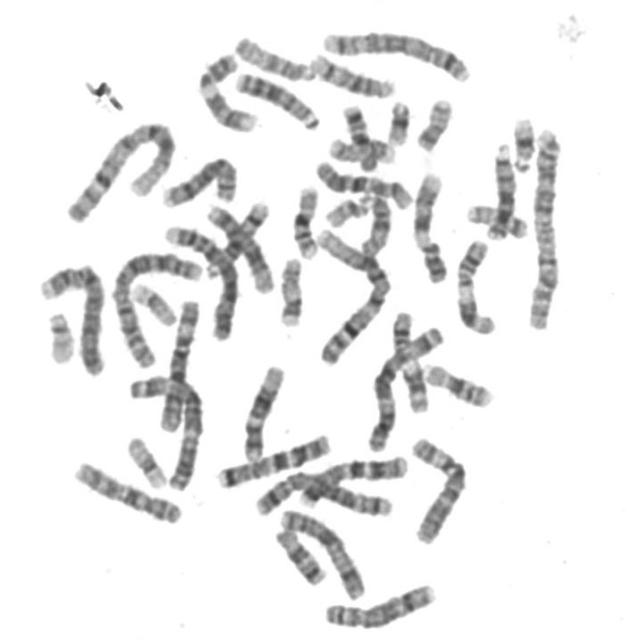A1: (60, 114, 180, 226), (307, 221, 394, 367)
A2: (106, 241, 206, 370), (521, 120, 566, 332)
A3: (361, 318, 447, 454), (122, 366, 208, 492)
B4: (157, 216, 243, 342), (34, 255, 109, 378)
B5: (317, 23, 475, 84), (248, 462, 398, 520)
C10: (68, 454, 186, 527), (310, 153, 417, 211)
C11: (385, 305, 433, 415), (450, 232, 500, 336)
C12: (200, 195, 276, 295), (237, 357, 287, 464)
C6: (405, 430, 471, 547), (154, 292, 203, 435)
C7: (211, 426, 334, 490), (295, 448, 410, 508)
C8: (317, 576, 439, 631), (158, 149, 242, 210)
C9: (193, 45, 261, 135), (408, 165, 452, 284)
D13: (230, 64, 324, 132), (481, 137, 517, 241)
D14: (200, 195, 276, 295), (305, 45, 398, 100)
D15: (229, 28, 318, 83), (354, 186, 394, 259)
E16: (418, 356, 497, 410), (286, 178, 324, 260)
E17: (322, 130, 398, 166), (274, 250, 306, 328)
E18: (268, 521, 330, 588), (337, 98, 381, 172)
F19: (120, 428, 171, 491), (127, 274, 180, 327)
F20: (461, 196, 531, 240), (410, 89, 456, 153)
G21: (507, 110, 539, 174), (381, 93, 414, 147)
G22: (40, 304, 79, 365), (320, 190, 375, 229)
X: (274, 501, 369, 602)
